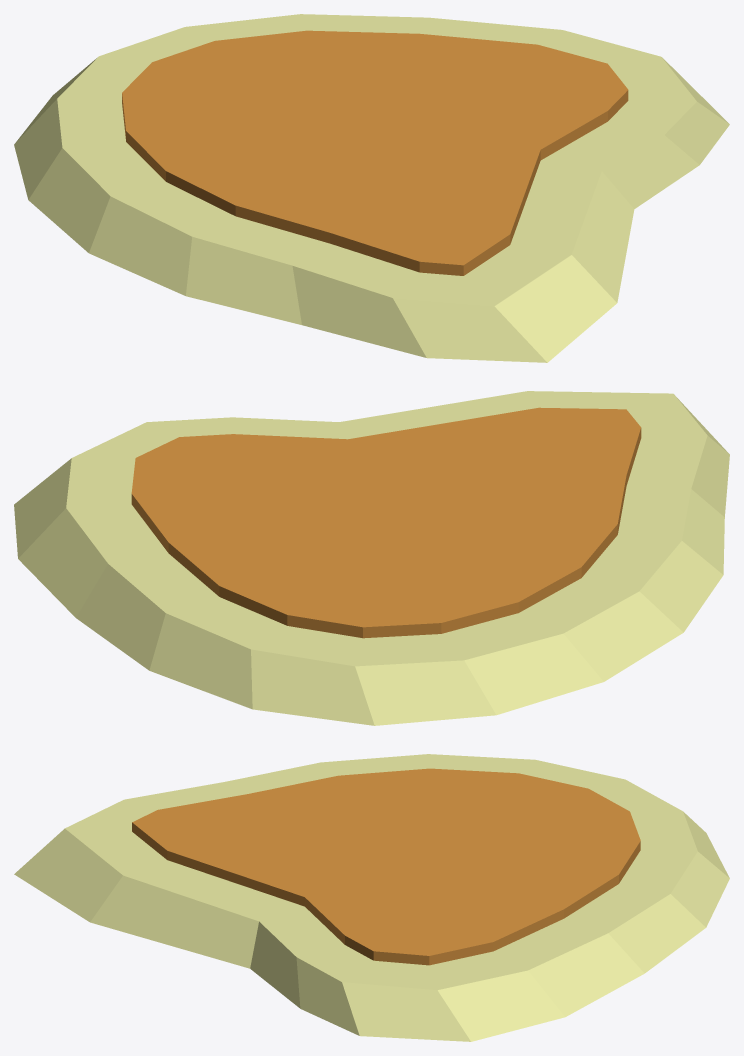
The model's file is island_01.fbx.
3 renders of one model, top to bottom at view 1: azimuth 30°, elevation 25°; view 2: azimuth 150°, elevation 25°; view 3: azimuth 270°, elevation 25°, orthographic. The views are drawn at different scales.
Parts seen in each view (by area): view 1: island_01; view 2: island_01; view 3: island_01.
Boxes of the visible parts, box(x1,y1,x2,y2) form: island_01: box(14, 14, 729, 362); island_01: box(14, 391, 729, 725); island_01: box(14, 754, 729, 1041).
Size of the model in its own units: 4763 by 376 by 5416.
